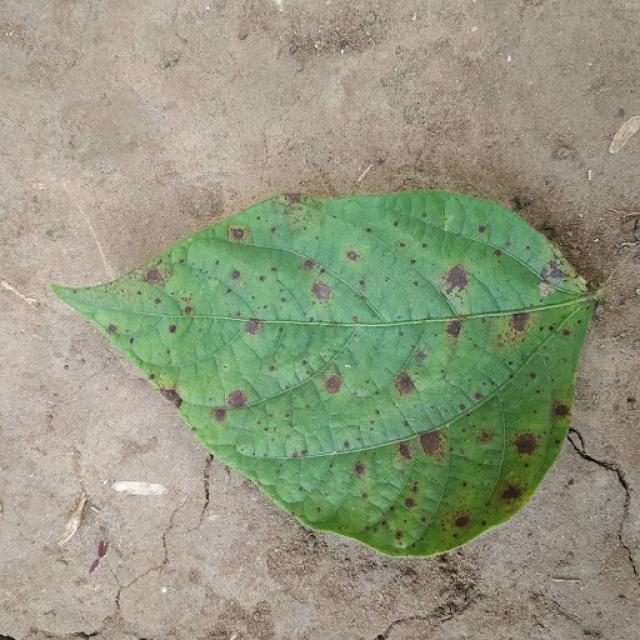Anthracnose: (386, 367, 422, 399), (540, 261, 570, 285), (444, 265, 469, 293), (419, 430, 443, 458), (512, 432, 539, 456), (225, 388, 248, 409), (499, 483, 524, 502), (510, 312, 530, 333), (310, 281, 332, 300), (159, 386, 180, 405), (323, 373, 342, 393), (227, 225, 249, 242), (445, 319, 463, 338), (244, 318, 262, 336), (144, 267, 162, 284), (397, 441, 413, 460), (552, 402, 570, 417), (211, 406, 227, 422), (454, 514, 471, 528), (352, 461, 366, 476), (301, 258, 316, 271), (413, 349, 427, 361), (403, 497, 416, 509), (345, 250, 359, 261), (107, 323, 118, 334), (230, 269, 241, 280), (473, 391, 484, 401), (394, 530, 404, 540), (168, 324, 177, 333), (183, 306, 193, 314), (478, 225, 487, 233), (358, 279, 366, 287), (529, 371, 537, 379), (343, 441, 350, 449), (361, 492, 368, 499), (365, 227, 372, 233)
Blackgram: (54, 190, 599, 555)
